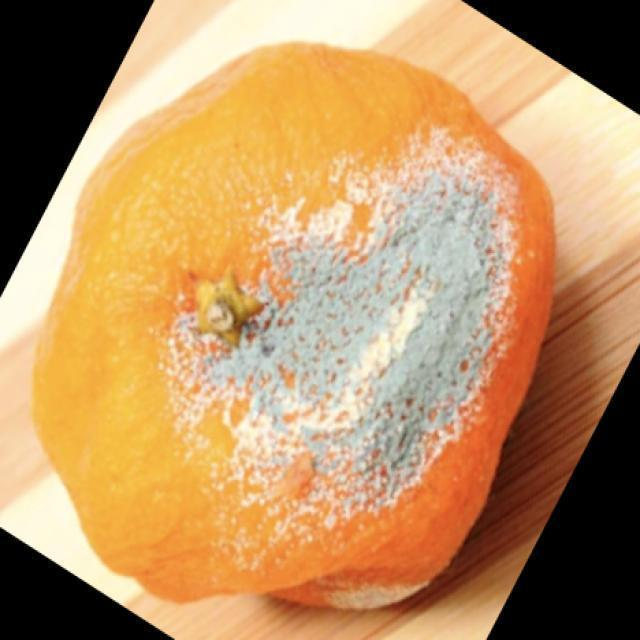Orange: (30, 38, 557, 611)
